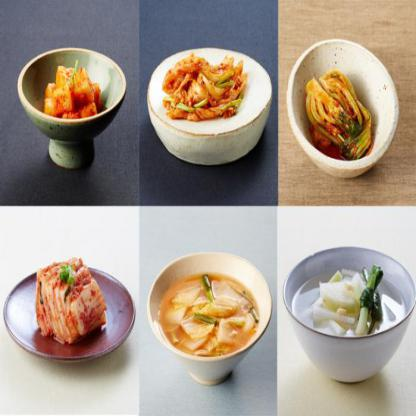kimchi: (18, 239, 112, 356)
